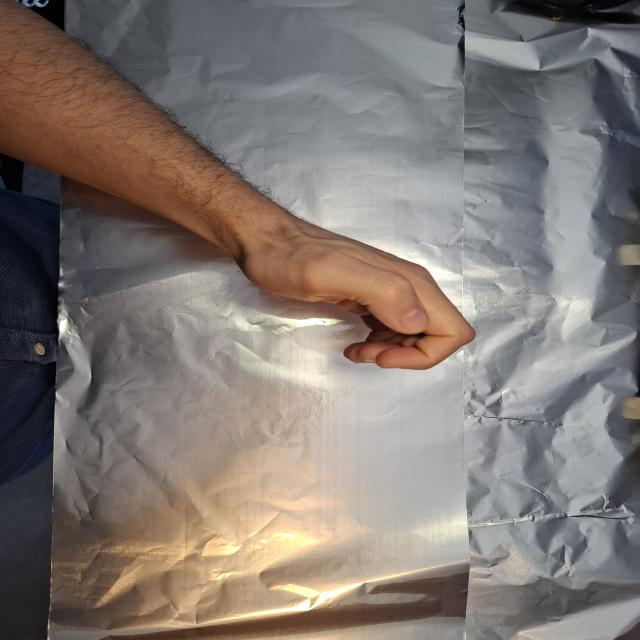glove_off: (230, 198, 478, 371)
